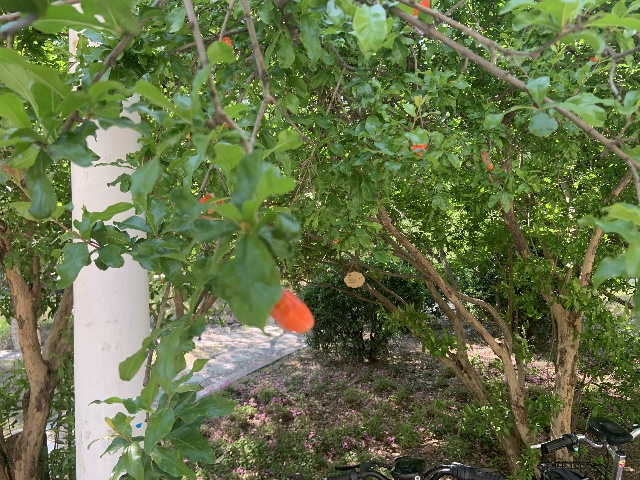bud: (269, 289, 313, 334), (222, 36, 232, 47), (589, 57, 597, 62), (487, 164, 493, 170), (333, 239, 339, 243)
flower: (198, 192, 223, 216), (410, 142, 426, 156)
